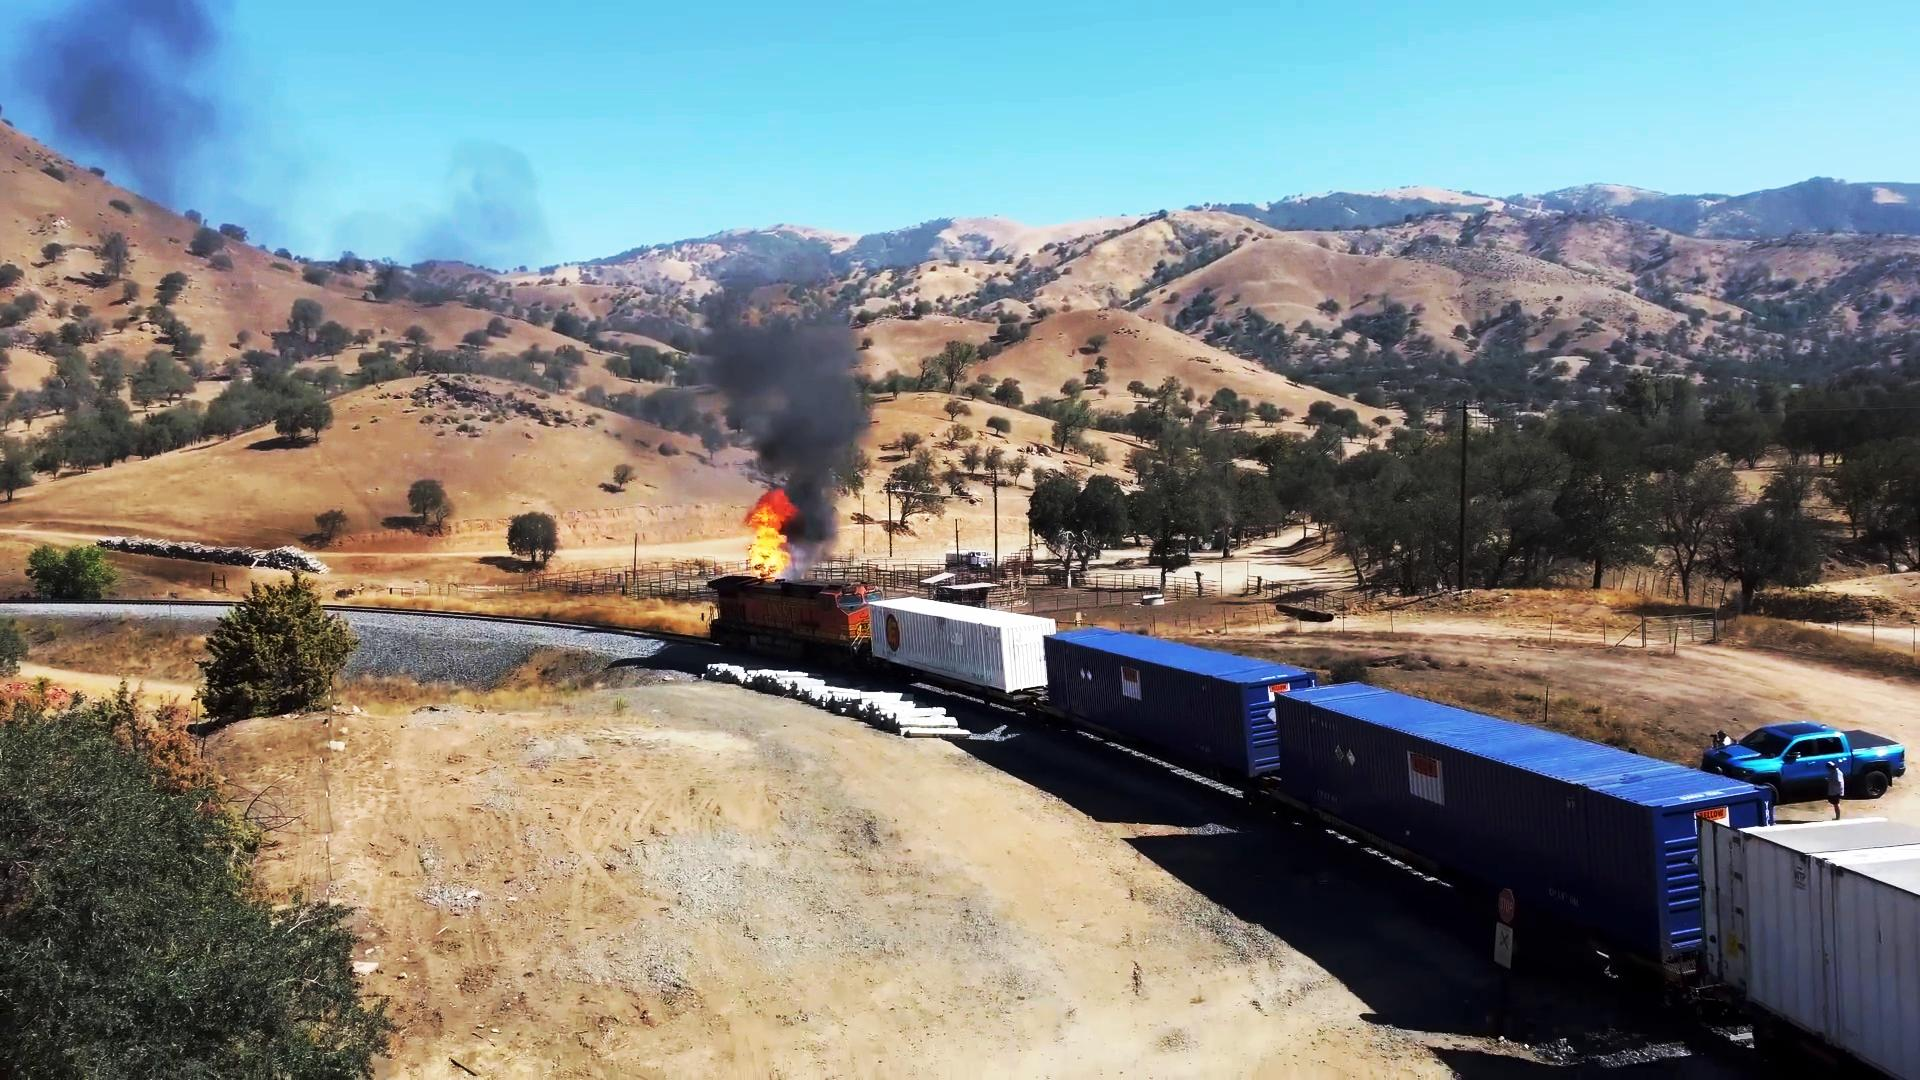fire: (708, 484, 821, 578)
smoke: (728, 271, 863, 469)
